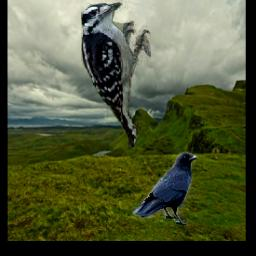Crow: (133, 151, 197, 225)
Woodpecker: (73, 0, 152, 147)
